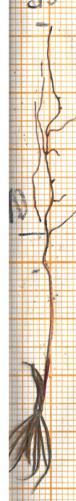flower: (8, 357, 61, 497)
root: (31, 22, 76, 234)
stem: (34, 232, 59, 411)
